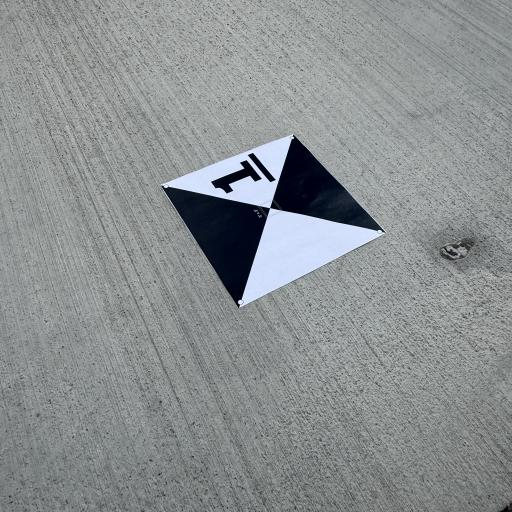target1: (156, 133, 392, 308)
